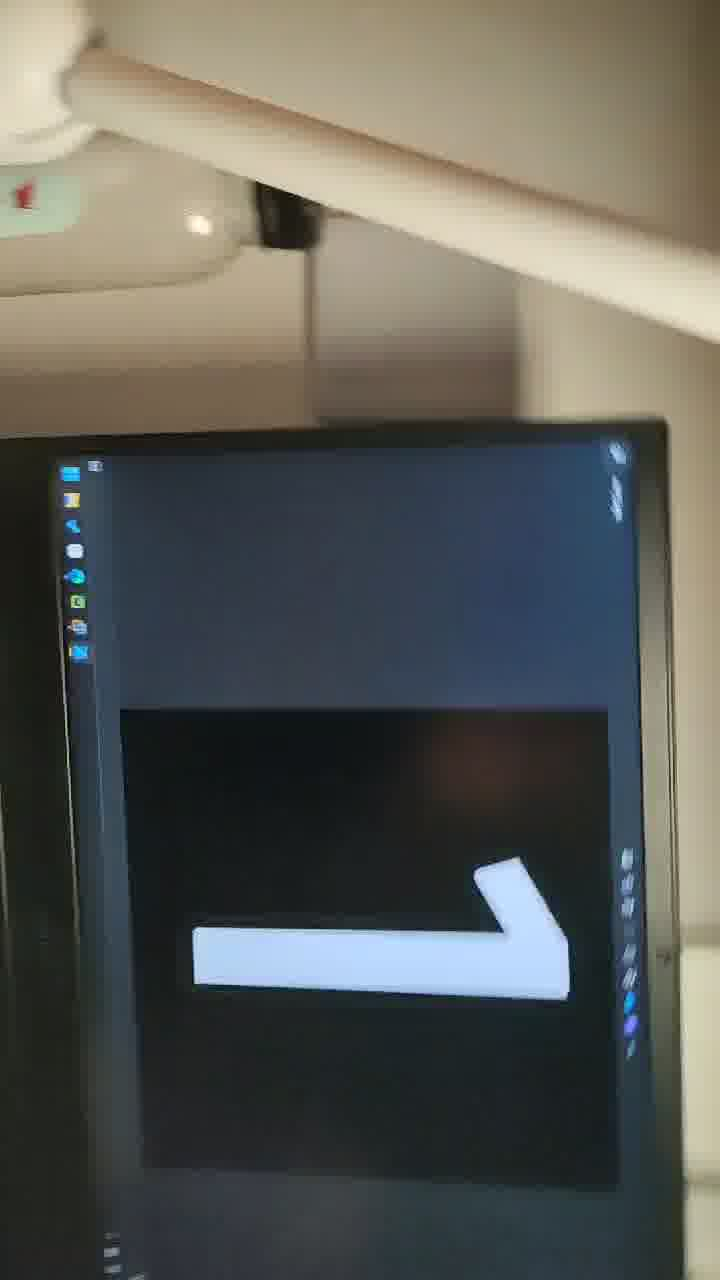one: (173, 738, 604, 1168)
